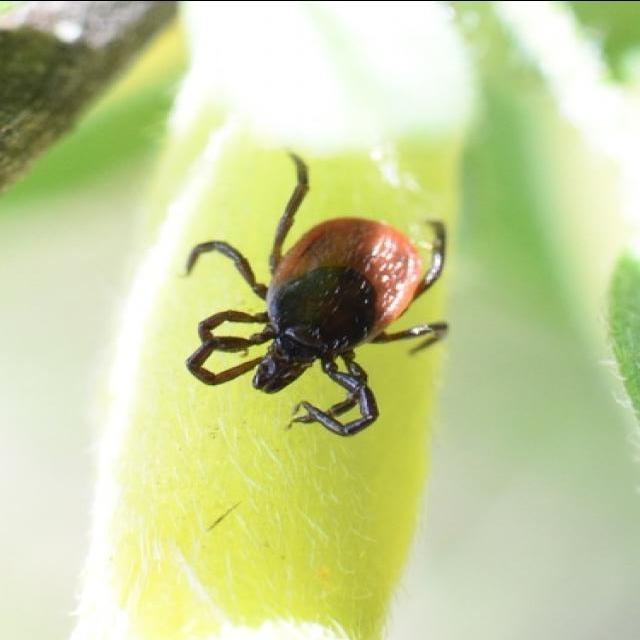Ixodes Ricinus-F: (186, 151, 449, 436)
